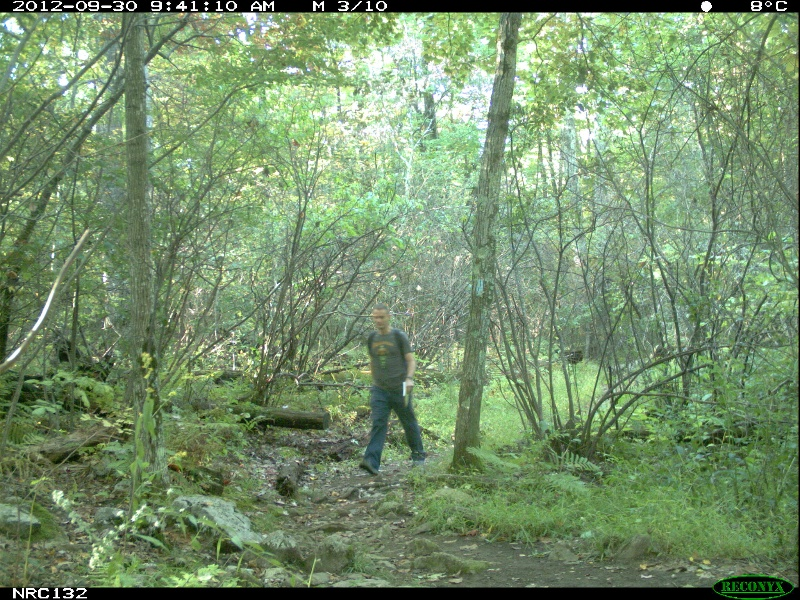human: (352, 302, 431, 474)
human face: (373, 305, 389, 333)
human legs: (358, 384, 430, 476)
